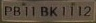character: (49, 5, 58, 16), (83, 5, 91, 17), (13, 5, 21, 16), (4, 5, 12, 15), (40, 6, 48, 16), (61, 5, 66, 16), (24, 5, 28, 17), (70, 4, 74, 16), (78, 4, 82, 16), (31, 5, 35, 16)
